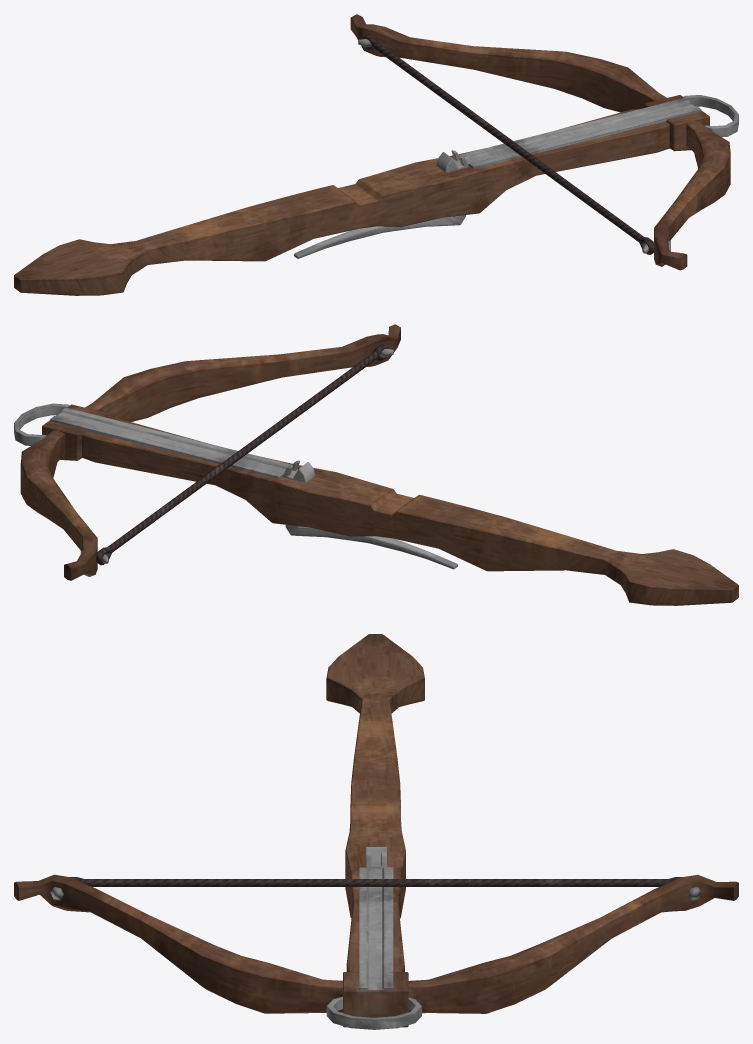
Rendered from banded_crossbow.glb.
3 renders of one model, top to bottom at view 1: azimuth 30°, elevation 25°; view 2: azimuth 150°, elevation 25°; view 3: azimuth 270°, elevation 25°, orthographic. The views are drawn at different scales.
Visible parts, largest first — view 1: banded_crossbow; view 2: banded_crossbow; view 3: banded_crossbow.
Part boxes in pixels (x1,y1,x2,y2): banded_crossbow: (14, 14, 738, 295); banded_crossbow: (14, 324, 738, 605); banded_crossbow: (14, 634, 738, 1029).
Bounding box in the file's own units: 0.8 × 0.0816 × 0.6387.
1 material, 1 textured.
